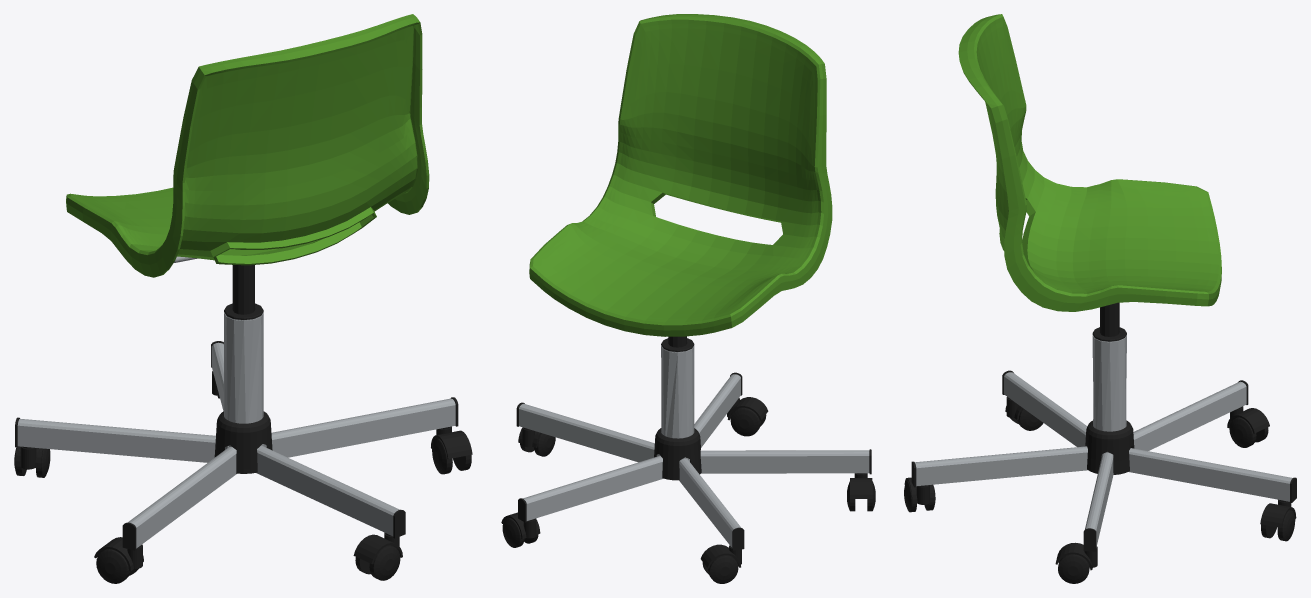
3 renders of one model, left to right at view 1: azimuth 30°, elevation 25°; view 2: azimuth 150°, elevation 25°; view 3: azimuth 270°, elevation 25°, orthographic. The views are drawn at different scales.
Parts seen in each view (by area): view 1: Mesh2 Group2 SNILLE_IKEA1 Model, Mesh8 Group6 SNILLE_IKEA1 Model, Mesh7 Group5 SNILLE_IKEA1 Model, Mesh1 Group1 SNILLE_IKEA1 Model, Mesh3 Group3 SNILLE_IKEA1 Model, Mesh20 ROULETTE4 SNILLE_IKEA1 Model, Mesh15 ROULETTE3 SNILLE_IKEA1 Model, Mesh12 ROULETTE2 SNILLE_IKEA1 Model, Mesh14 ROULETTE2 SNILLE_IKEA1 Model, Mesh18 ROULETTE4 SNILLE_IKEA1 Model, Mesh9 ROULETTE1 SNILLE_IKEA1 Model; view 2: Mesh2 Group2 SNILLE_IKEA1 Model, Mesh8 Group6 SNILLE_IKEA1 Model, Mesh7 Group5 SNILLE_IKEA1 Model, Mesh1 Group1 SNILLE_IKEA1 Model, Mesh13 ROULETTE2 SNILLE_IKEA1 Model, Mesh11 ROULETTE1 SNILLE_IKEA1 Model, Mesh18 ROULETTE4 SNILLE_IKEA1 Model, Mesh9 ROULETTE1 SNILLE_IKEA1 Model, Mesh12 ROULETTE2 SNILLE_IKEA1 Model; view 3: Mesh2 Group2 SNILLE_IKEA1 Model, Mesh8 Group6 SNILLE_IKEA1 Model, Mesh7 Group5 SNILLE_IKEA1 Model, Mesh1 Group1 SNILLE_IKEA1 Model, Mesh3 Group3 SNILLE_IKEA1 Model, Mesh17 ROULETTE3 SNILLE_IKEA1 Model, Mesh21 ROULETTE5 SNILLE_IKEA1 Model, Mesh9 ROULETTE1 SNILLE_IKEA1 Model, Mesh10 ROULETTE1 SNILLE_IKEA1 Model, Mesh15 ROULETTE3 SNILLE_IKEA1 Model.
Boxes of the visible parts, <box> form: Mesh2 Group2 SNILLE_IKEA1 Model: <box>66,14,429,277</box>; Mesh8 Group6 SNILLE_IKEA1 Model: <box>15,341,458,550</box>; Mesh7 Group5 SNILLE_IKEA1 Model: <box>224,312,263,423</box>; Mesh1 Group1 SNILLE_IKEA1 Model: <box>214,411,272,473</box>; Mesh3 Group3 SNILLE_IKEA1 Model: <box>224,265,263,319</box>; Mesh20 ROULETTE4 SNILLE_IKEA1 Model: <box>96,549,130,583</box>; Mesh15 ROULETTE3 SNILLE_IKEA1 Model: <box>431,426,472,459</box>; Mesh12 ROULETTE2 SNILLE_IKEA1 Model: <box>353,532,402,564</box>; Mesh14 ROULETTE2 SNILLE_IKEA1 Model: <box>369,545,400,580</box>; Mesh18 ROULETTE4 SNILLE_IKEA1 Model: <box>94,537,143,571</box>; Mesh9 ROULETTE1 SNILLE_IKEA1 Model: <box>15,446,43,469</box>; Mesh2 Group2 SNILLE_IKEA1 Model: <box>529,14,832,336</box>; Mesh8 Group6 SNILLE_IKEA1 Model: <box>516,372,871,550</box>; Mesh7 Group5 SNILLE_IKEA1 Model: <box>661,345,694,438</box>; Mesh1 Group1 SNILLE_IKEA1 Model: <box>654,428,701,480</box>; Mesh13 ROULETTE2 SNILLE_IKEA1 Model: <box>730,407,760,436</box>; Mesh11 ROULETTE1 SNILLE_IKEA1 Model: <box>708,555,738,583</box>; Mesh18 ROULETTE4 SNILLE_IKEA1 Model: <box>850,473,872,498</box>; Mesh9 ROULETTE1 SNILLE_IKEA1 Model: <box>700,544,741,568</box>; Mesh12 ROULETTE2 SNILLE_IKEA1 Model: <box>727,397,768,420</box>; Mesh2 Group2 SNILLE_IKEA1 Model: <box>958,14,1221,311</box>; Mesh8 Group6 SNILLE_IKEA1 Model: <box>911,370,1296,551</box>; Mesh7 Group5 SNILLE_IKEA1 Model: <box>1092,335,1126,431</box>; Mesh1 Group1 SNILLE_IKEA1 Model: <box>1085,420,1134,474</box>; Mesh3 Group3 SNILLE_IKEA1 Model: <box>1092,302,1126,341</box>; Mesh17 ROULETTE3 SNILLE_IKEA1 Model: <box>1058,554,1089,583</box>; Mesh21 ROULETTE5 SNILLE_IKEA1 Model: <box>1260,499,1296,527</box>; Mesh9 ROULETTE1 SNILLE_IKEA1 Model: <box>1227,406,1269,433</box>; Mesh10 ROULETTE1 SNILLE_IKEA1 Model: <box>1229,417,1256,447</box>; Mesh15 ROULETTE3 SNILLE_IKEA1 Model: <box>1055,542,1097,570</box>.
Size of the model in its own units: 0.5941 by 0.745 by 0.5898.
